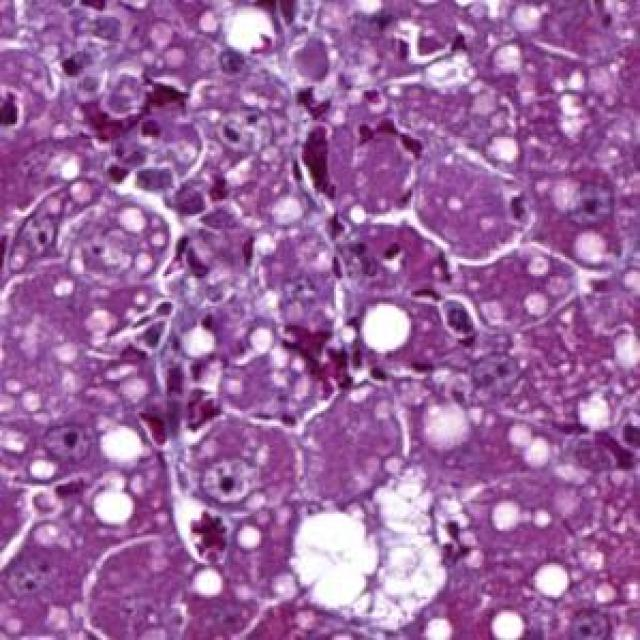ballooning: (287, 462, 456, 632)
